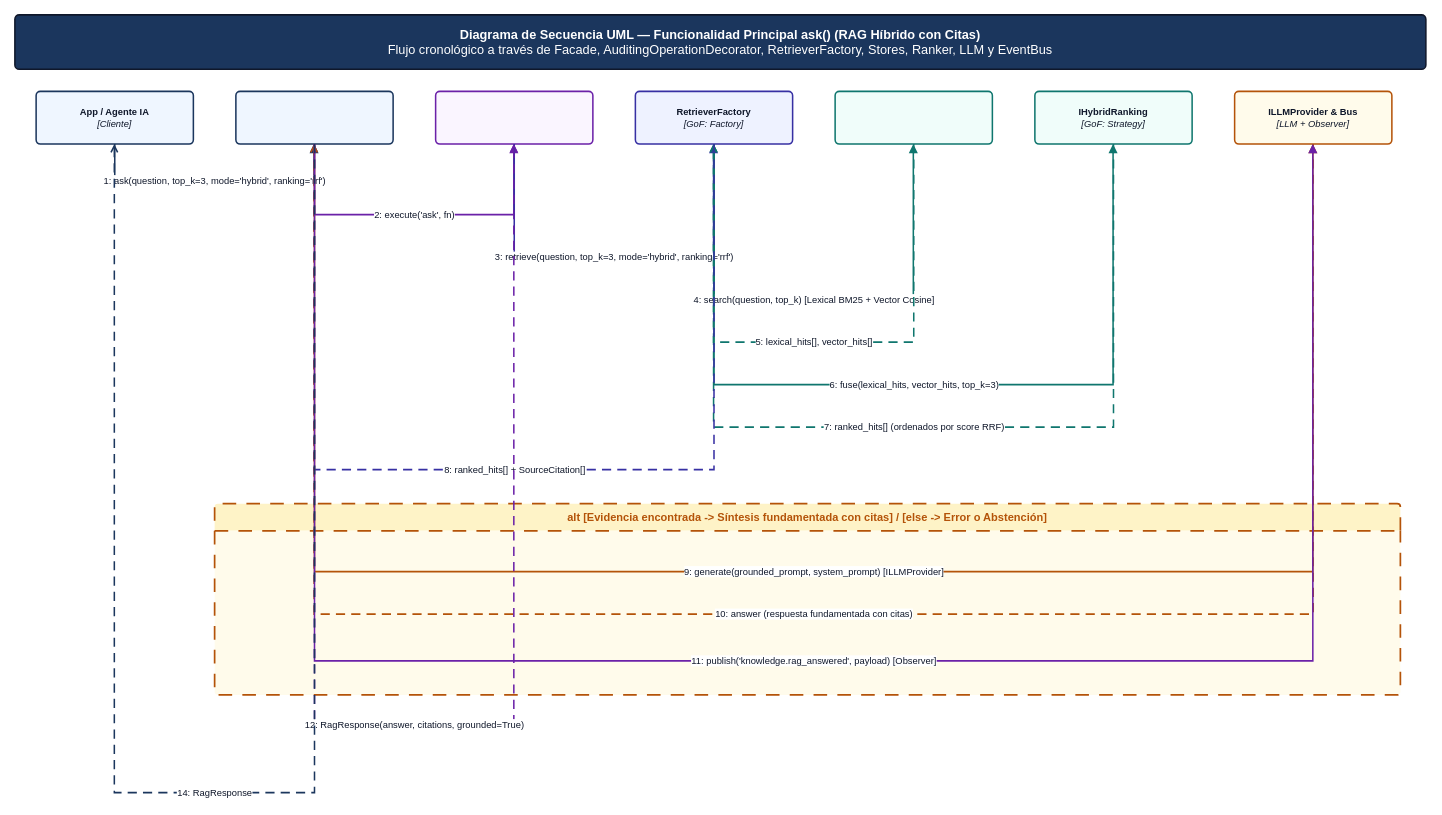
The diagram is 1442 pixels wide and 815 high, and some of its shapes have lost their labels. Each missing label, with the box of its shape:
AuditingDecorator [GoF: Decorator]: (434, 90, 593, 144)
ContextForge [GoF: Facade]: (235, 90, 393, 144)
Lexical & Vector [BM25 + Cosine]: (834, 90, 993, 144)
